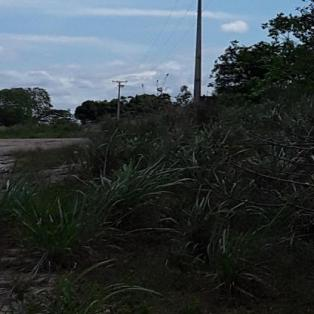Poste: (191, 0, 204, 103)
